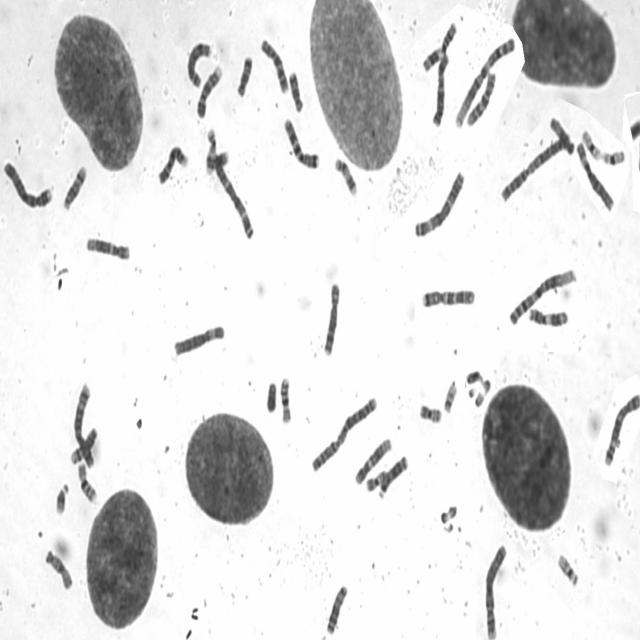A1: (453, 34, 517, 129), (507, 264, 577, 327)
A2: (308, 392, 379, 473), (498, 133, 568, 204)
A3: (211, 147, 255, 241), (412, 167, 466, 240)
B4: (2, 157, 54, 210), (482, 541, 507, 639)
B5: (602, 390, 640, 468), (72, 380, 95, 470)
C10: (464, 68, 497, 128), (259, 35, 289, 95)
C11: (420, 18, 458, 74), (526, 306, 569, 327)
C12: (353, 434, 392, 486), (84, 234, 131, 261)
C6: (574, 138, 614, 213), (171, 322, 226, 358)
C7: (282, 115, 320, 171), (419, 286, 476, 310)
C8: (322, 279, 341, 358), (185, 39, 212, 89)
C9: (194, 61, 224, 120), (156, 142, 190, 186)
D13: (376, 451, 408, 499), (325, 582, 349, 634)
D14: (61, 162, 88, 210)
D15: (42, 545, 74, 593), (548, 113, 575, 156)
E16: (76, 457, 99, 505), (278, 373, 292, 425)
E17: (333, 154, 358, 198), (204, 126, 217, 176)
E18: (234, 52, 253, 99), (287, 68, 304, 114)
F19: (580, 126, 602, 162), (600, 146, 626, 167)
F20: (417, 400, 443, 425), (364, 468, 388, 492)
G21: (53, 479, 70, 516), (212, 150, 229, 168)
G22: (556, 550, 579, 587), (442, 378, 458, 414)
X: (429, 50, 450, 128), (42, 545, 74, 593)
Y: (264, 378, 278, 415)
